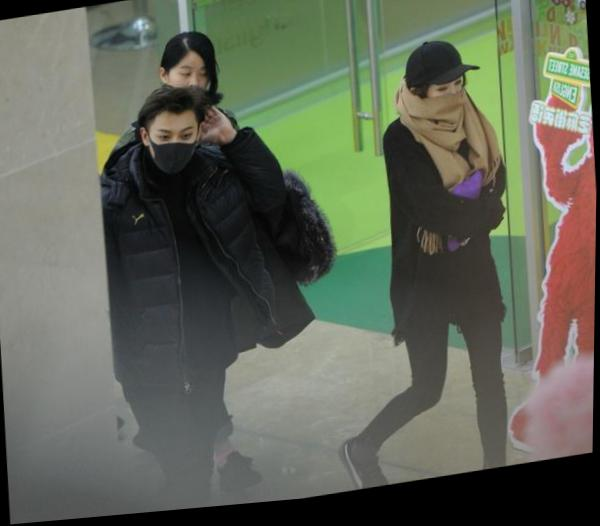NONE: (171, 62, 212, 106)
OK: (148, 123, 201, 182)
WRONG: (426, 80, 465, 124)
